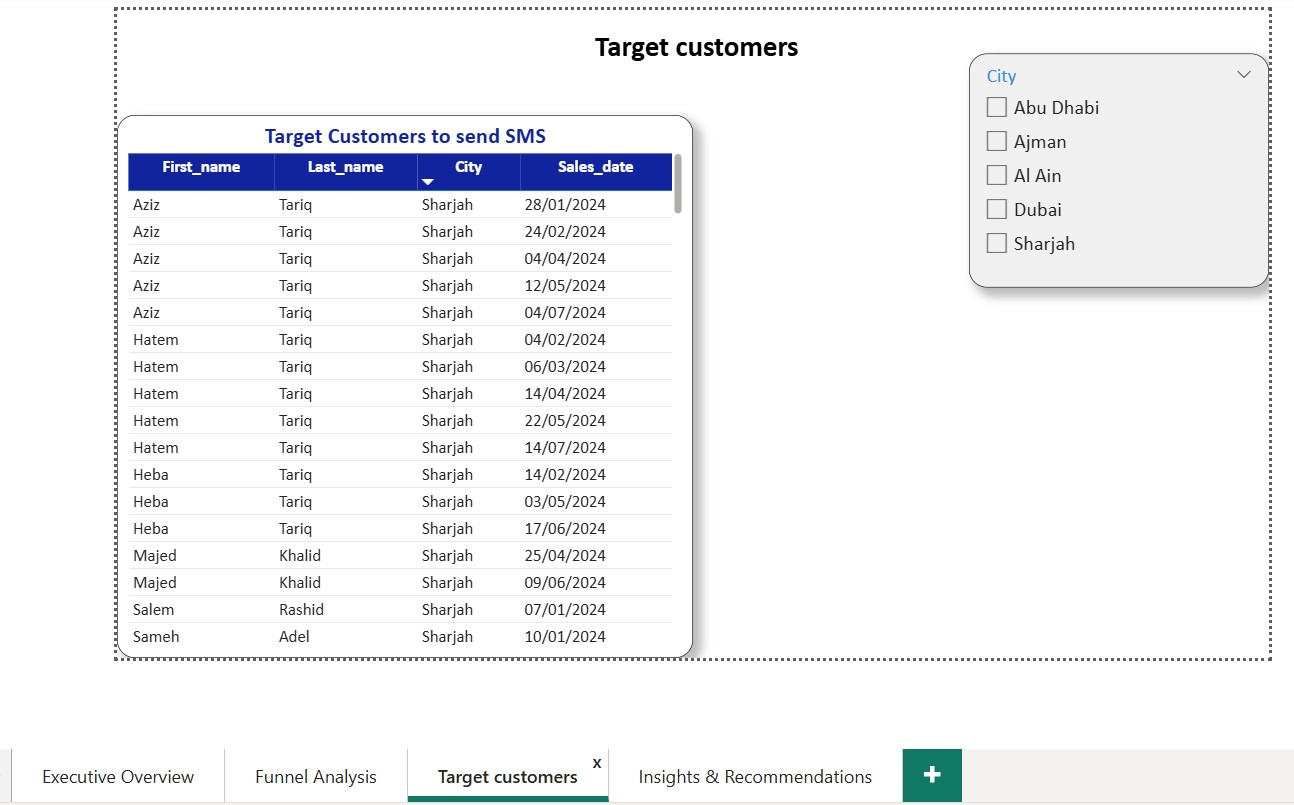

Layout of this report page (visuals, bound fields, positions):
{"tool":"powerbi","page":{"name":"Target customers","canvas":[1280,720],"ordinal":2},"visuals":[{"type":"tableEx","title":"Target Customers to send SMS","fields":{"Values":["customers.First_name","customers.Last_name","customers.City","Fact_Sales.Sales_date"]},"box":[0,116.7,640,603.3],"z":0},{"type":"slicer","fields":{"Values":["customers.City"]},"box":[946.7,48.3,333.3,260],"z":1000},{"type":"textbox","box":[485.7,14.3,318.6,51.4],"z":2000}]}

Visuals, with their boxes on the page's 1280x720 design canvas (x1, y1, x2, y2). These are canvas units, not pixel positions in the 1294x805 screenshot, which may show the page scaled, cropped or inside an application window:
"Target Customers to send SMS" tableEx: l=0, t=117, r=640, b=720
slicer - customers.City: l=947, t=48, r=1280, b=308
textbox: l=486, t=14, r=804, b=66
